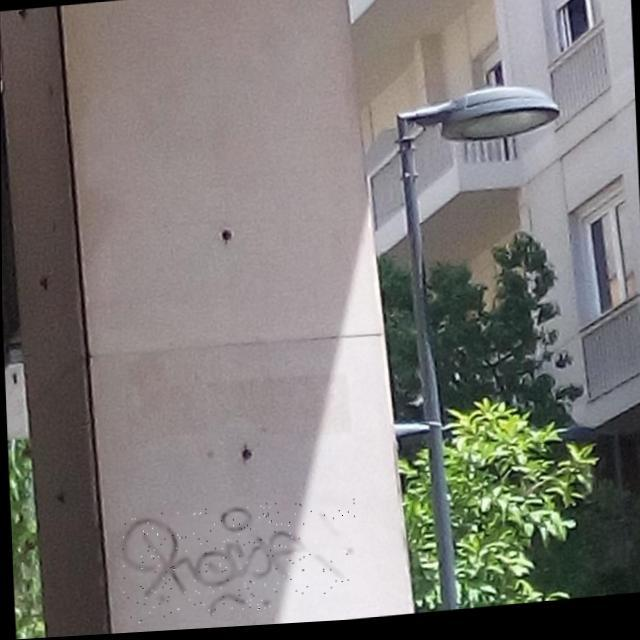-: (119, 498, 359, 626)
